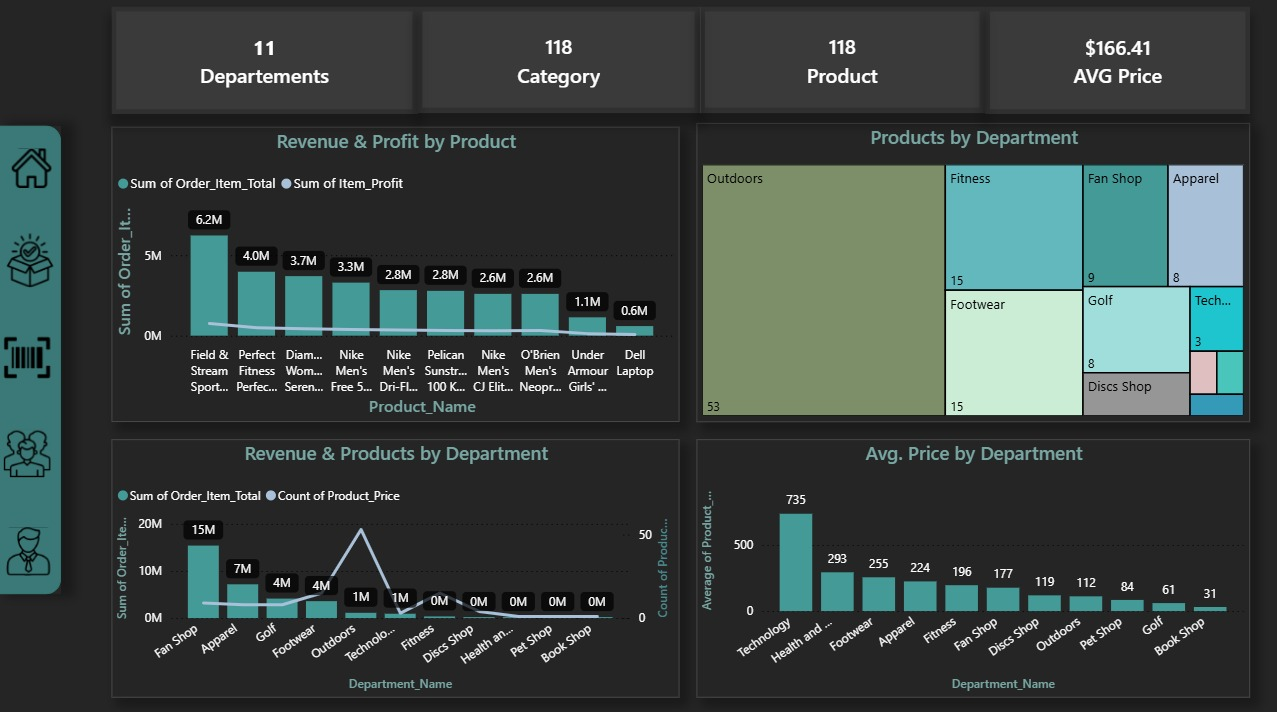

This screenshot's page, from the dashboard's own definition file:
{"tool":"powerbi","page":{"name":"Products","canvas":[1280,720],"ordinal":2},"visuals":[{"type":"treemap","title":"Products by Department","fields":{"Group":["Gold DimProducts.Department_Name"],"Values":["CountNonNull(Gold DimProducts.Product_Card_Id)"]},"box":[697.7,129.9,553.5,299],"z":0},{"type":"shape","box":[0,132.7,62,468.9],"z":0,"group":"g1"},{"type":"lineStackedColumnComboChart","title":"Revenue & Profit by Product","fields":{"Category":["Gold DimProducts.Product_Name"],"Y":["Sum(Gold FactOrders.Order_Item_Total)"],"Y2":["Sum(Gold FactOrders.Item_Profit)"]},"box":[112.1,133.5,567.8,295.4],"z":1000},{"type":"actionButton","box":[8.7,147.1,47.6,56.3],"z":1000,"group":"g1"},{"type":"actionButton","box":[0,235.5,62,64.9],"z":2000,"group":"g1"},{"type":"lineStackedColumnComboChart","title":"Revenue & Products by Department","fields":{"Category":["Gold DimProducts.Department_Name"],"Y":["Sum(Gold FactOrders.Order_Item_Total)"],"Y2":["CountNonNull(Gold DimProducts.Product_Price)"]},"box":[112.1,446.7,567.8,258.1],"z":2000},{"type":"actionButton","box":[0,332.5,56.3,64.9],"z":3000,"group":"g1"},{"type":"columnChart","title":"Avg. Price by Department","fields":{"Y":["Avg(Gold DimProducts.Product_Price)"],"Category":["Gold DimProducts.Department_Name"]},"box":[697.7,446.7,553.5,258.1],"z":3000},{"type":"group","id":"g1","title":"Group 1","box":[0,132.7,62,468.9],"z":4000},{"type":"actionButton","box":[0,429.5,56.3,64.9],"z":4000,"group":"g1"},{"type":"cardVisual","fields":{"Data":["_Measures.Departements"]},"box":[112.5,13.8,306.2,107.5],"z":5000},{"type":"actionButton","box":[1.4,526.6,56.3,64.9],"z":5000,"group":"g1"},{"type":"cardVisual","fields":{"Data":["_Measures.Category"]},"box":[418.2,14.2,283,106.8],"z":6000},{"type":"cardVisual","fields":{"Data":["_Measures.Product"]},"box":[701.2,14.2,284.8,106.8],"z":7000},{"type":"cardVisual","fields":{"Data":["_Measures.AVG Price"]},"box":[986.2,13.8,265,107.5],"z":8000}]}

Visuals, with their boxes on the page's 1280x720 design canvas (x1, y1, x2, y2). These are canvas units, not pixel positions in the 1277x712 screenshot, which may show the page scaled, cropped or inside an application window:
"Products by Department" treemap: (x1=698, y1=130, x2=1251, y2=429)
shape: (x1=0, y1=133, x2=62, y2=602)
"Revenue & Profit by Product" lineStackedColumnComboChart: (x1=112, y1=134, x2=680, y2=429)
actionButton: (x1=9, y1=147, x2=56, y2=203)
actionButton: (x1=0, y1=236, x2=62, y2=300)
"Revenue & Products by Department" lineStackedColumnComboChart: (x1=112, y1=447, x2=680, y2=705)
actionButton: (x1=0, y1=332, x2=56, y2=397)
"Avg. Price by Department" columnChart: (x1=698, y1=447, x2=1251, y2=705)
"Group 1" group: (x1=0, y1=133, x2=62, y2=602)
actionButton: (x1=0, y1=430, x2=56, y2=494)
cardVisual - _Measures.Departements: (x1=112, y1=14, x2=419, y2=121)
actionButton: (x1=1, y1=527, x2=58, y2=592)
cardVisual - _Measures.Category: (x1=418, y1=14, x2=701, y2=121)
cardVisual - _Measures.Product: (x1=701, y1=14, x2=986, y2=121)
cardVisual - _Measures.AVG Price: (x1=986, y1=14, x2=1251, y2=121)
